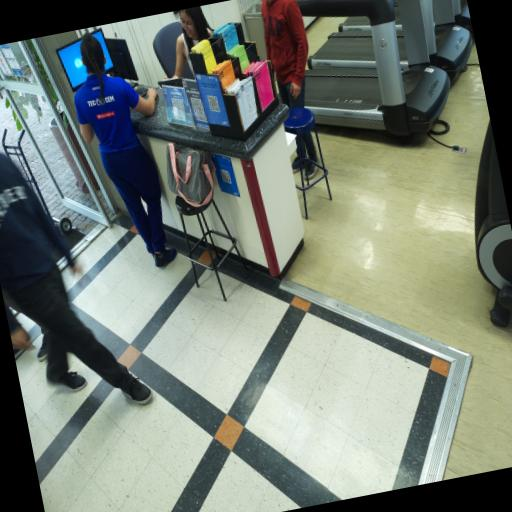person: (0, 154, 152, 404), (75, 33, 176, 267), (262, 0, 308, 108), (174, 6, 213, 77), (37, 326, 49, 361)
